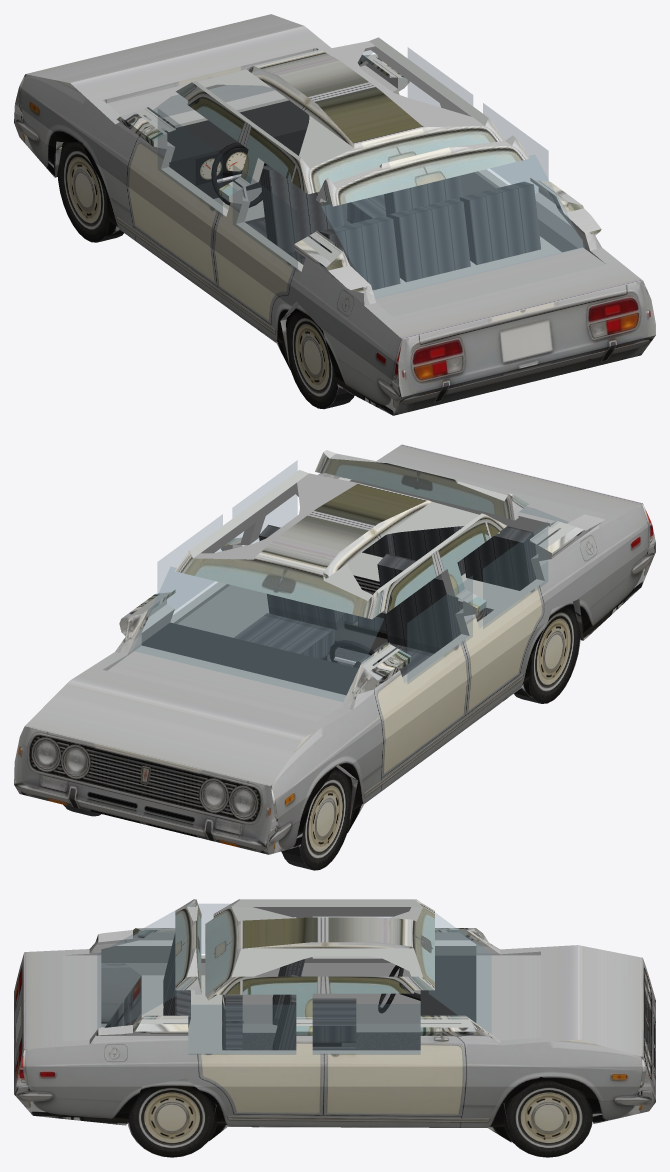
The model's file is company_car.glb.
The picture shows the model from 3 angles, top to bottom: view 1: azimuth 30°, elevation 25°; view 2: azimuth 150°, elevation 25°; view 3: azimuth 270°, elevation 25°; orthographic projection. The views are drawn at different scales.
Visible parts, largest first — view 1: company_car, company_car_cabin, wheel_BL, wheel_FL; view 2: company_car, company_car_cabin, wheel_FL, wheel_BL; view 3: company_car, company_car_cabin, wheel_FR, wheel_BR.
Part boxes in pixels (x1,y1,x2,y2): company_car: [14, 14, 655, 415]; company_car_cabin: [146, 48, 584, 298]; wheel_BL: [286, 305, 354, 409]; wheel_FL: [57, 142, 123, 242]; company_car: [14, 444, 655, 854]; company_car_cabin: [133, 460, 568, 701]; wheel_FL: [281, 767, 352, 870]; wheel_BL: [514, 601, 580, 703]; company_car: [14, 899, 655, 1142]; company_car_cabin: [97, 904, 491, 1123]; wheel_FR: [504, 1077, 592, 1157]; wheel_BR: [127, 1078, 215, 1157].
Bounding box in the file's own units: 1.83 × 1.48 × 4.8.
11 materials, 4 textured.
